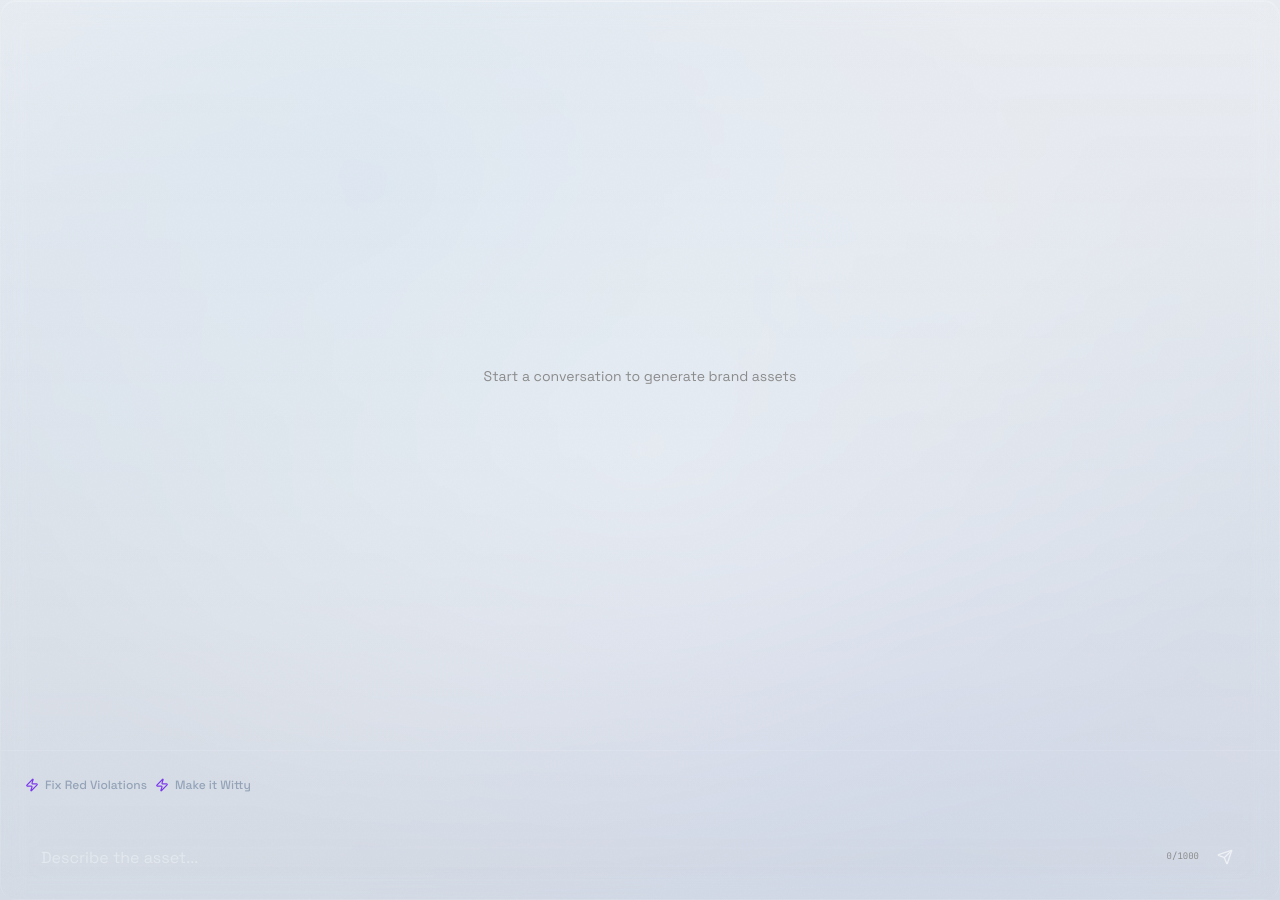
Director Component › should populate input field when Quick Action is clicked
Click the button with test id "quick-action-fix-red" at x=86, y=785, box [25,763,147,807]
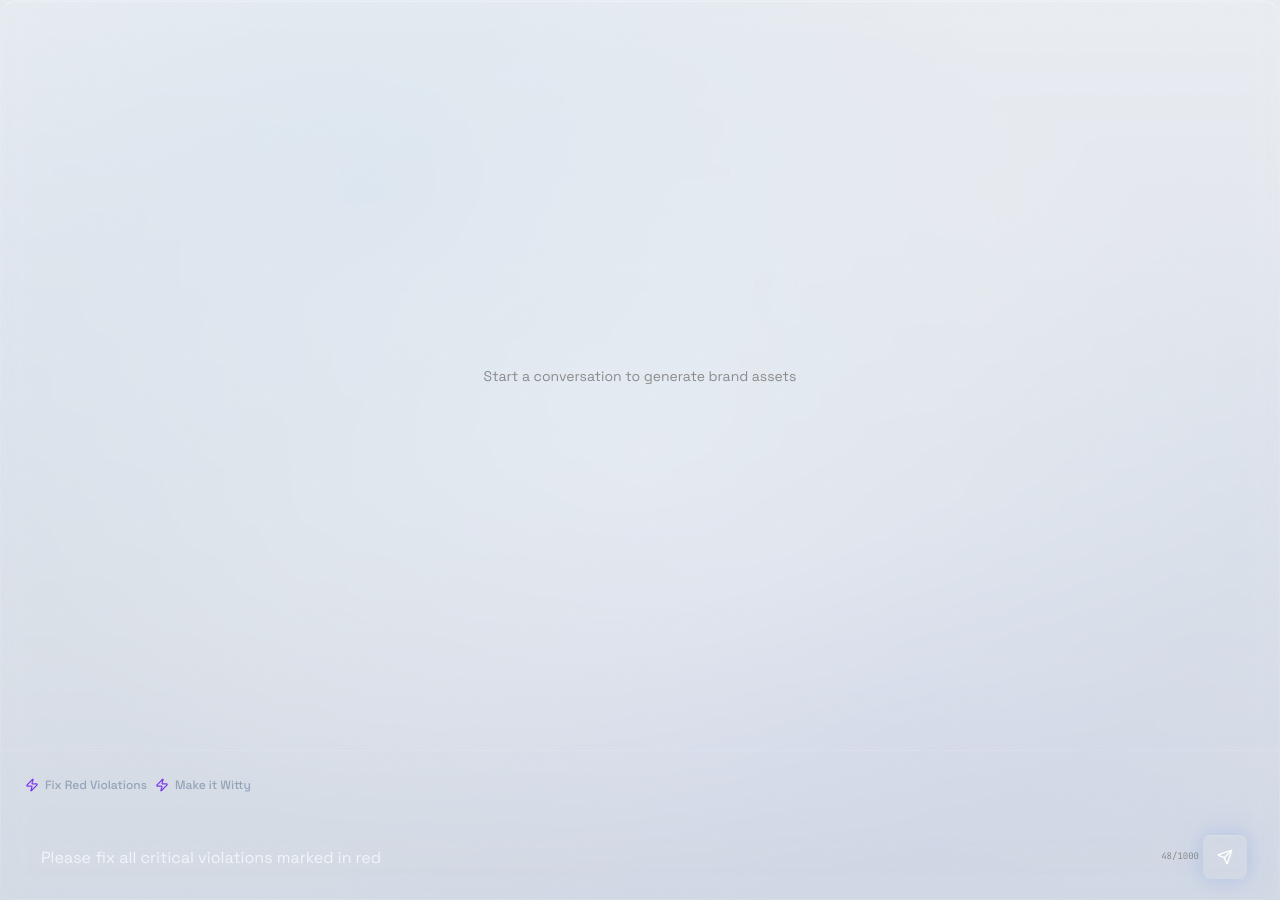
Check: the field with test id "prompt-input" holds "Please fix all critical violations marked in red", box [25,835,1255,879]
